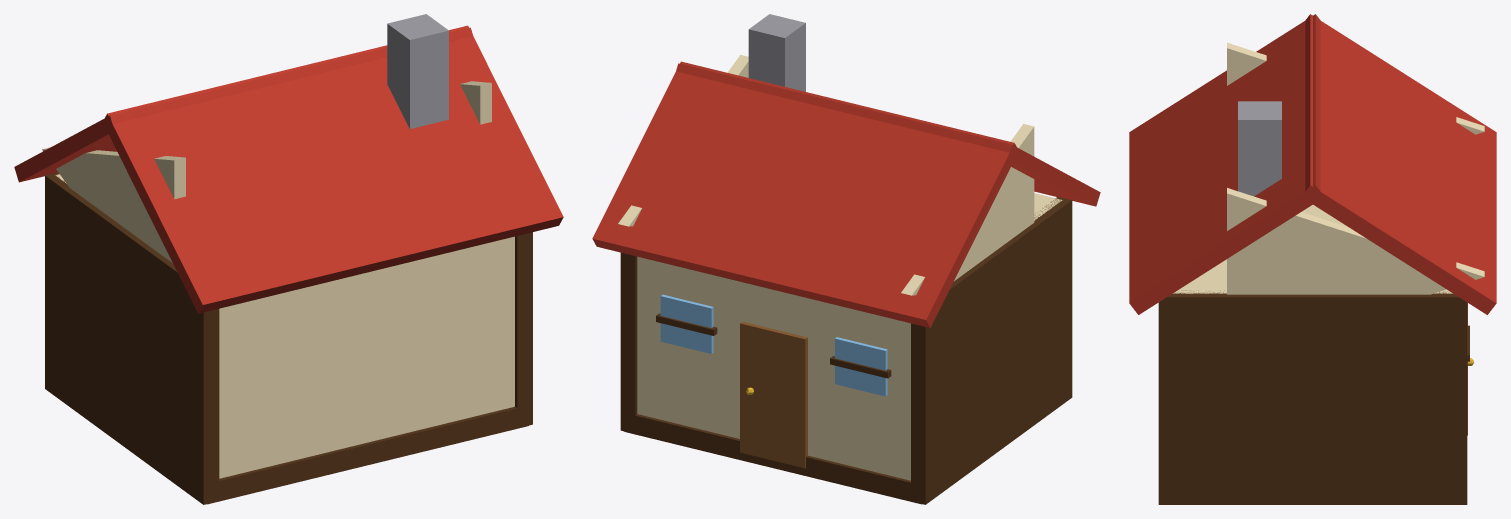
The model's file is house.glb.
3 views of the same model, side by side, from view 1: azimuth 30°, elevation 25°; view 2: azimuth 150°, elevation 25°; view 3: azimuth 270°, elevation 25° (orthographic). The views are drawn at different scales.
Parts seen in each view (by area): view 1: HouseWalls, HouseRoof, HouseGableL, HouseGableR; view 2: HouseRoof, HouseWalls, HouseDoor, HouseWindows, HouseGableL, HouseGableR; view 3: HouseRoof, HouseWalls, HouseGableR, HouseGableL.
Boxes of the visible parts, x1,y1,x2,y2 form: HouseWalls: (45,172,532,504); HouseRoof: (14,14,563,313); HouseGableL: (42,147,185,262); HouseGableR: (460,81,491,124); HouseRoof: (592,14,1100,327); HouseWalls: (620,193,1072,504); HouseDoor: (740,321,807,468); HouseWindows: (656,294,891,396); HouseGableL: (901,124,1034,295); HouseGableR: (618,55,748,226); HouseRoof: (1129,14,1496,314); HouseWalls: (1158,205,1467,504); HouseGableR: (1227,188,1484,294); HouseGableL: (1227,42,1484,134).
Size of what is drawn, in the model's own units: 4.6 by 4.57 by 4.17.
